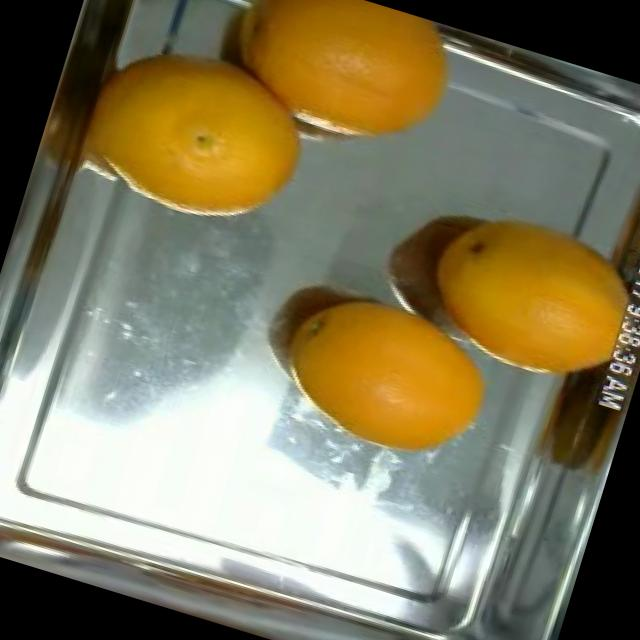Fruit: (278, 270, 522, 482), (413, 180, 640, 407)
